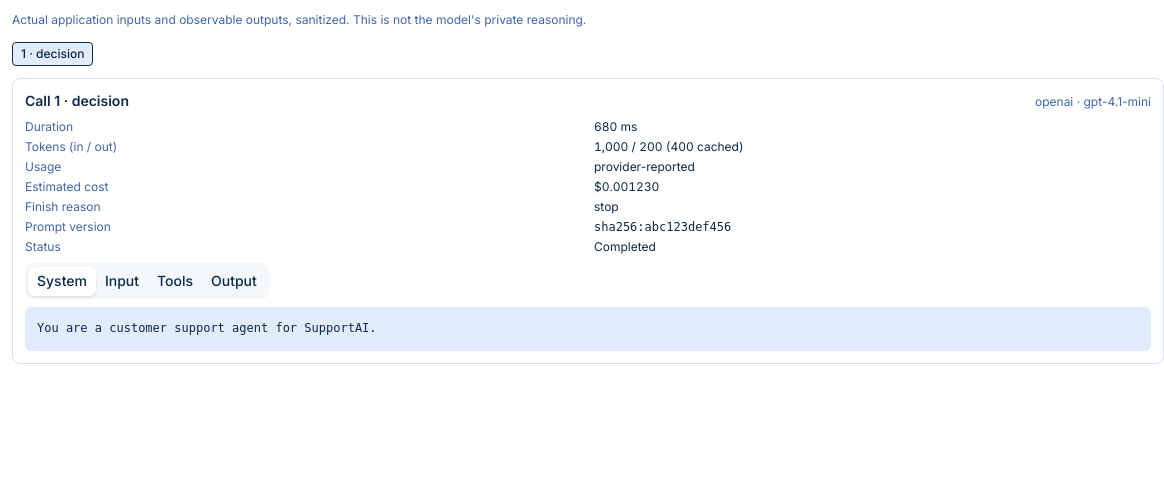
Test: prompt inspector › shows the system prompt, input, tools and output of a model call with its metadata
Expected: the element with test id "model-invocation" shows "gpt-4.1-mini", [1084,94,1151,109]
Expected: the element with test id "model-invocation" shows "680 ms", [594,119,637,134]
Press the mouse on the tab "Input": x=122, y=281 [96,266,148,296]
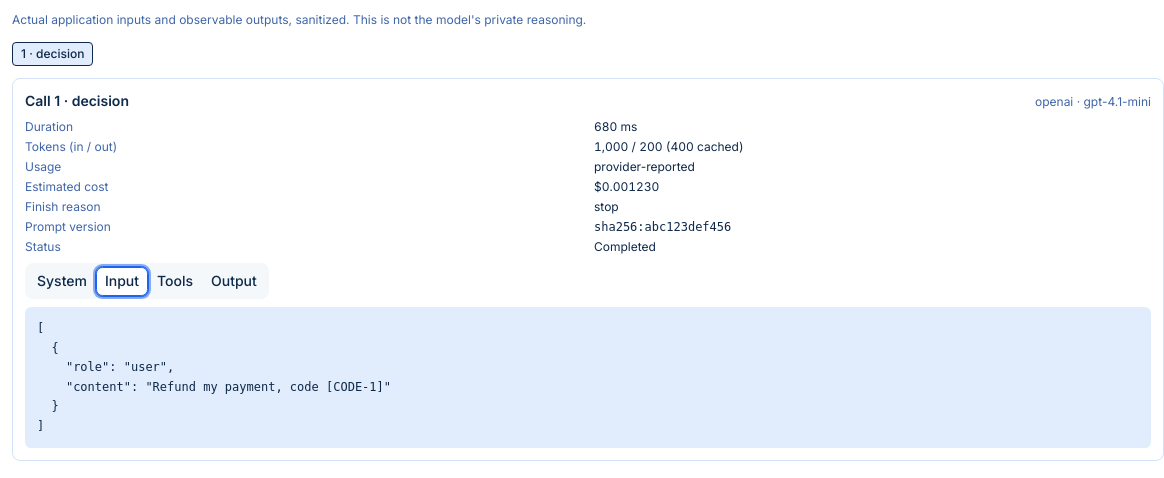
Expected: the text with test id "prompt-input" shows "[CODE-1]", [37,321,391,432]
